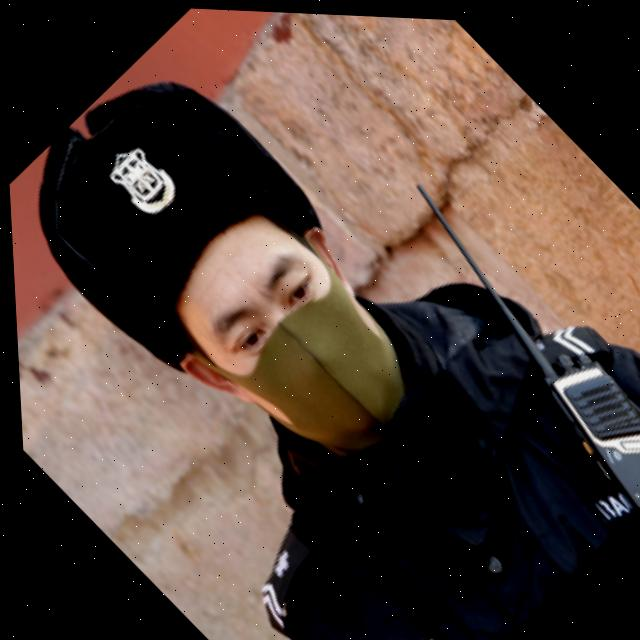Mask: (153, 203, 445, 493)
